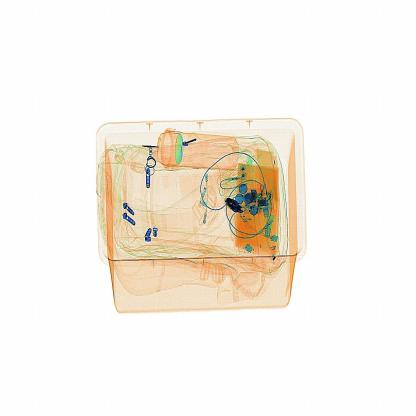scissors: (221, 192, 245, 224)
